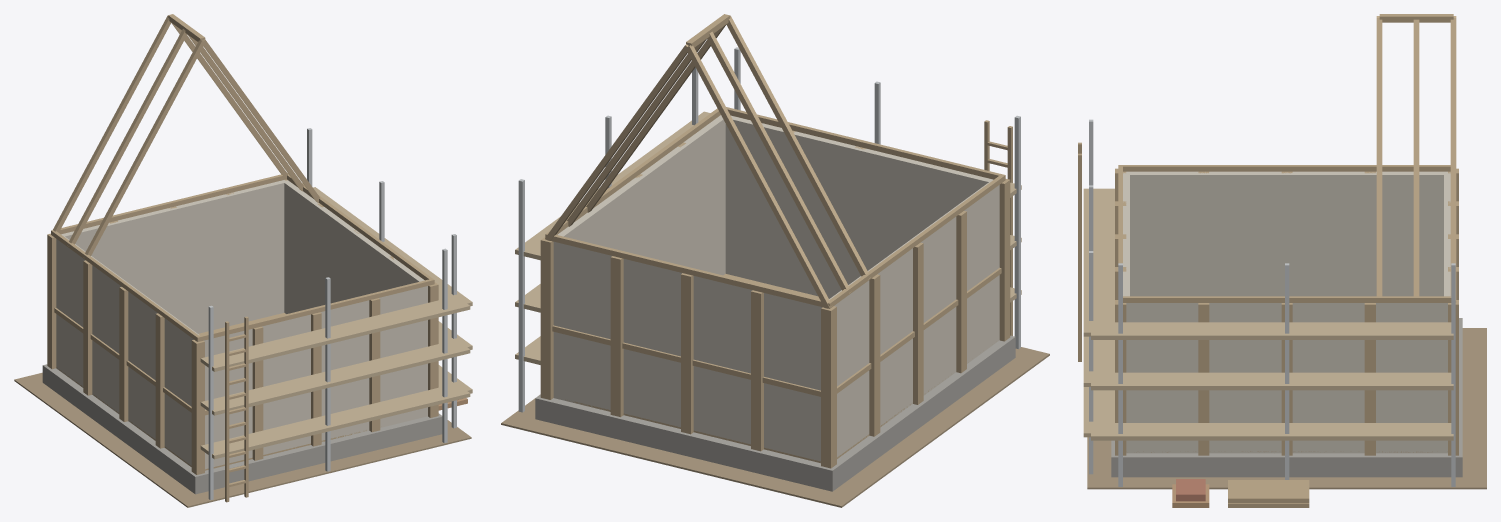
File: bakery_site_8.glb
3 views of the same model, side by side, from view 1: azimuth 30°, elevation 25°; view 2: azimuth 150°, elevation 25°; view 3: azimuth 270°, elevation 25° (orthographic). The views are drawn at different scales.
Visible parts, largest first — view 1: body; view 2: body; view 3: body.
Boxes of the visible parts, x1=… form: body: x1=14, y1=14, x2=472, y2=507; body: x1=501, y1=14, x2=1049, y2=507; body: x1=1078, y1=14, x2=1486, y2=507.
Size of the model in its own units: 2.28 by 2.35 by 2.21.
